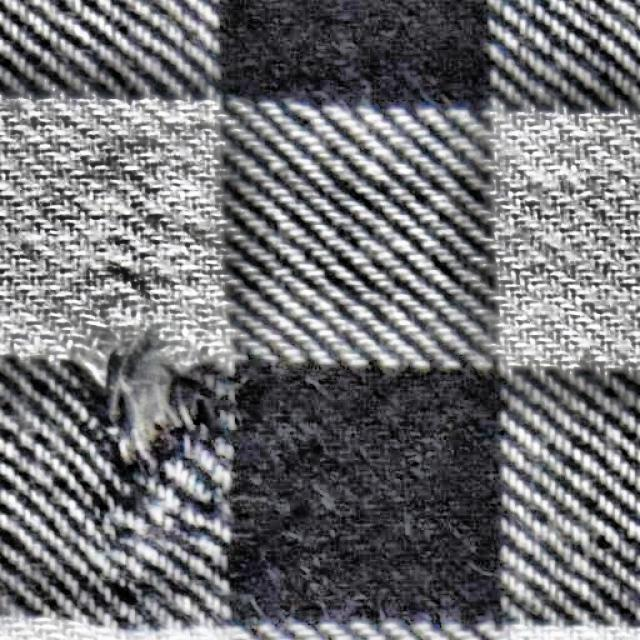gray stitch: (65, 320, 223, 620)
